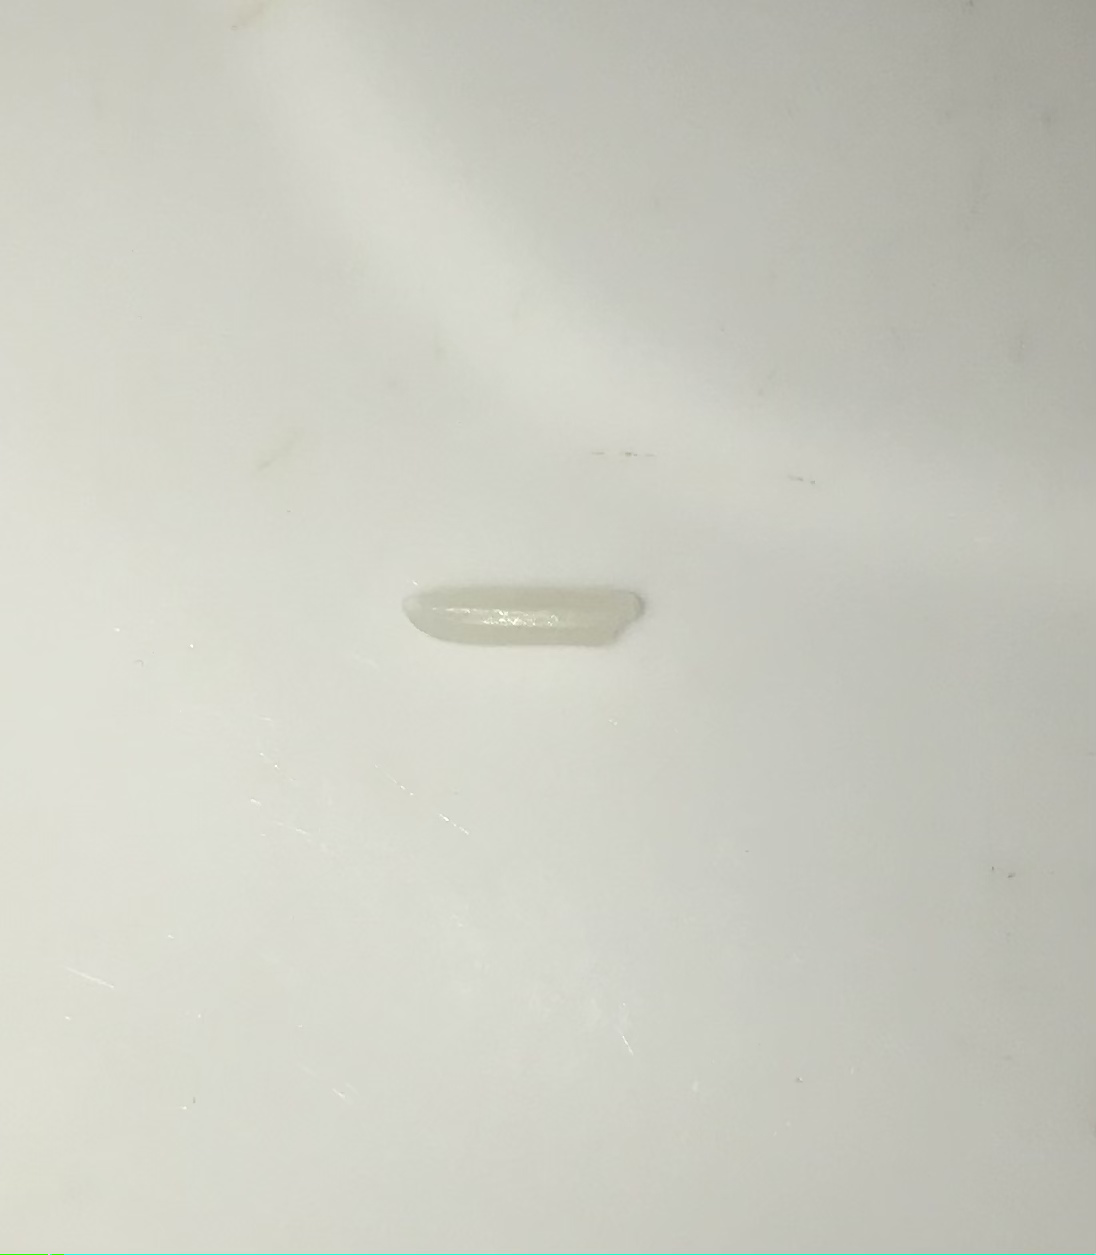Gao Ngoc Troi: (382, 554, 666, 681)
